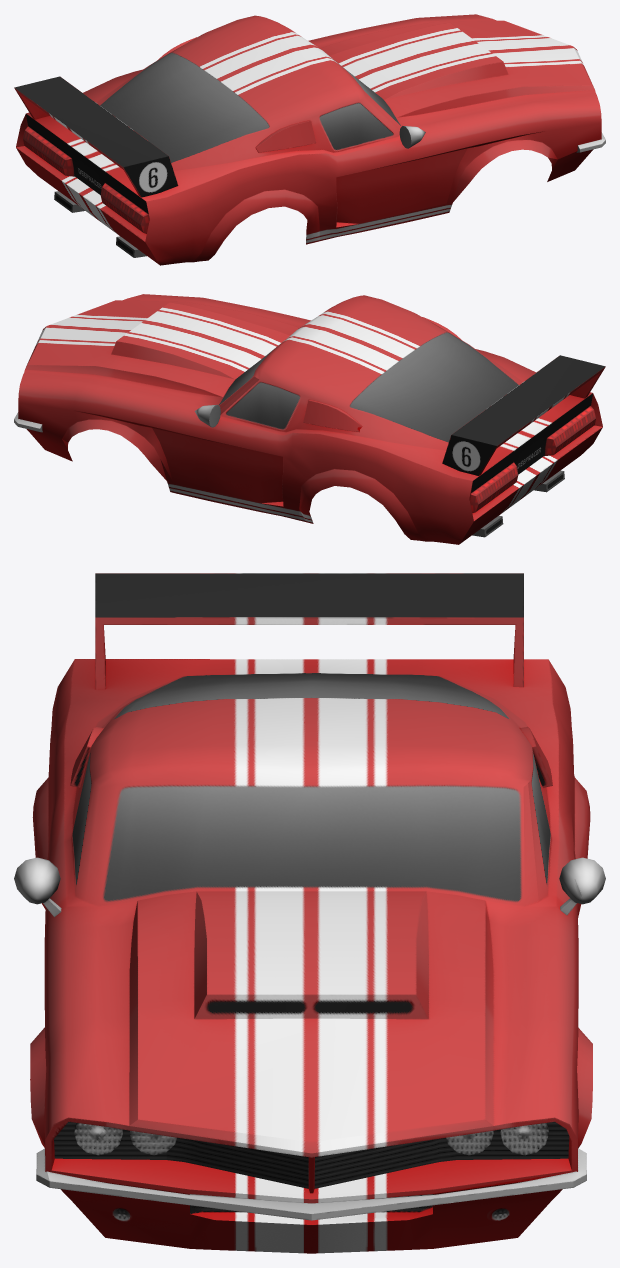
The model's file is f1_mustang_eleanor_01.dae.
3 renders of one model, top to bottom at view 1: azimuth 30°, elevation 25°; view 2: azimuth 150°, elevation 25°; view 3: azimuth 270°, elevation 25°, orthographic. The views are drawn at different scales.
Parts seen in each view (by area): view 1: eleanor_stripes_body001; view 2: eleanor_stripes_body001; view 3: eleanor_stripes_body001.
Boxes of the visible parts, bbox=[...] form: eleanor_stripes_body001: bbox=[14, 14, 605, 265]; eleanor_stripes_body001: bbox=[14, 294, 605, 544]; eleanor_stripes_body001: bbox=[14, 573, 605, 1253].
Bounding box in the file's own units: 0.3485 × 0.1784 × 0.0933.
1 material, 1 textured.
